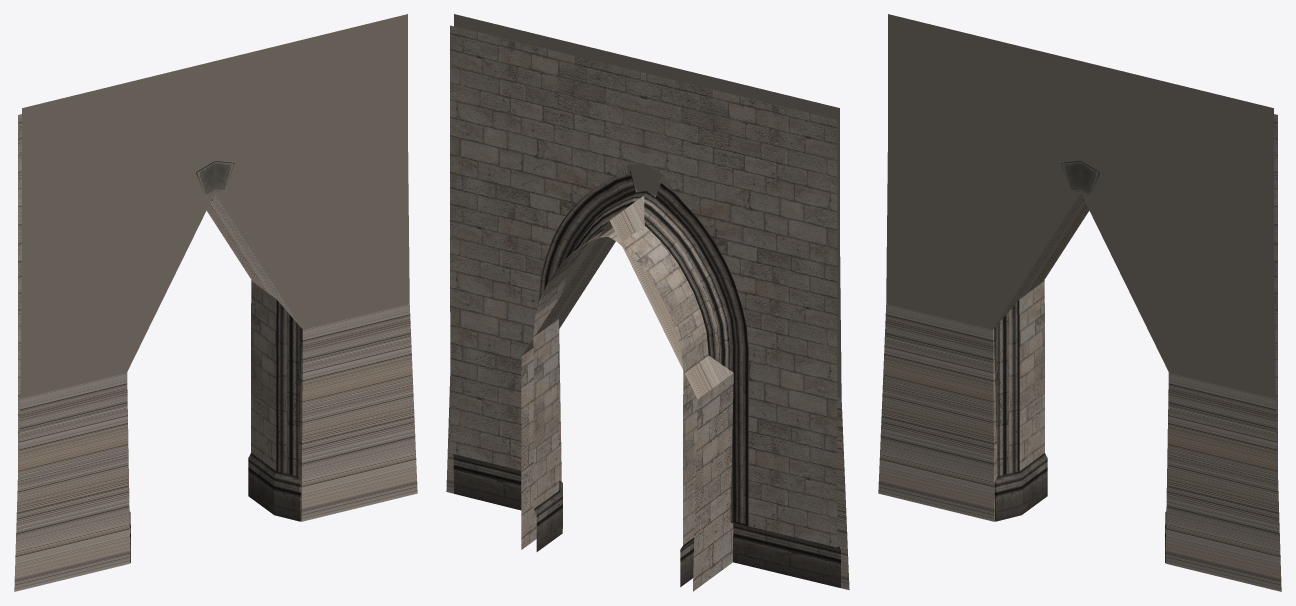
Rendered from ArchwallStone1.fbx.
3 renders of one model, left to right at view 1: azimuth 30°, elevation 25°; view 2: azimuth 150°, elevation 25°; view 3: azimuth 330°, elevation 25°, orthographic.
Parts seen in each view (by area): view 1: WindowArch_Stonecolmesh, WindowArch_Stone; view 2: WindowArch_Stone, WindowArch_Stonecolmesh; view 3: WindowArch_Stonecolmesh, WindowArch_Stone.
Part boxes in pixels (left/top/right/bottom): WindowArch_Stonecolmesh: left=14, top=14, right=417, bottom=591; WindowArch_Stone: left=18, top=114, right=301, bottom=562; WindowArch_Stone: left=450, top=25, right=840, bottom=587; WindowArch_Stonecolmesh: left=446, top=14, right=849, bottom=591; WindowArch_Stonecolmesh: left=878, top=14, right=1281, bottom=591; WindowArch_Stone: left=994, top=114, right=1277, bottom=562.
Size of the model in its own units: 503 by 574 by 88.42.
